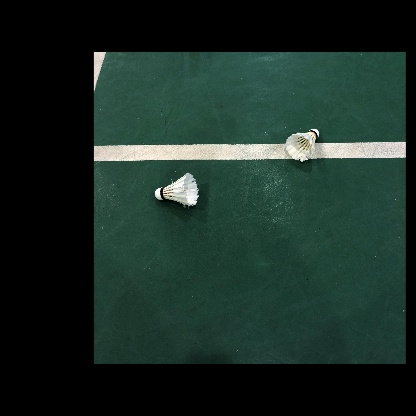ball_single: (154, 173, 199, 206), (286, 129, 319, 162)
